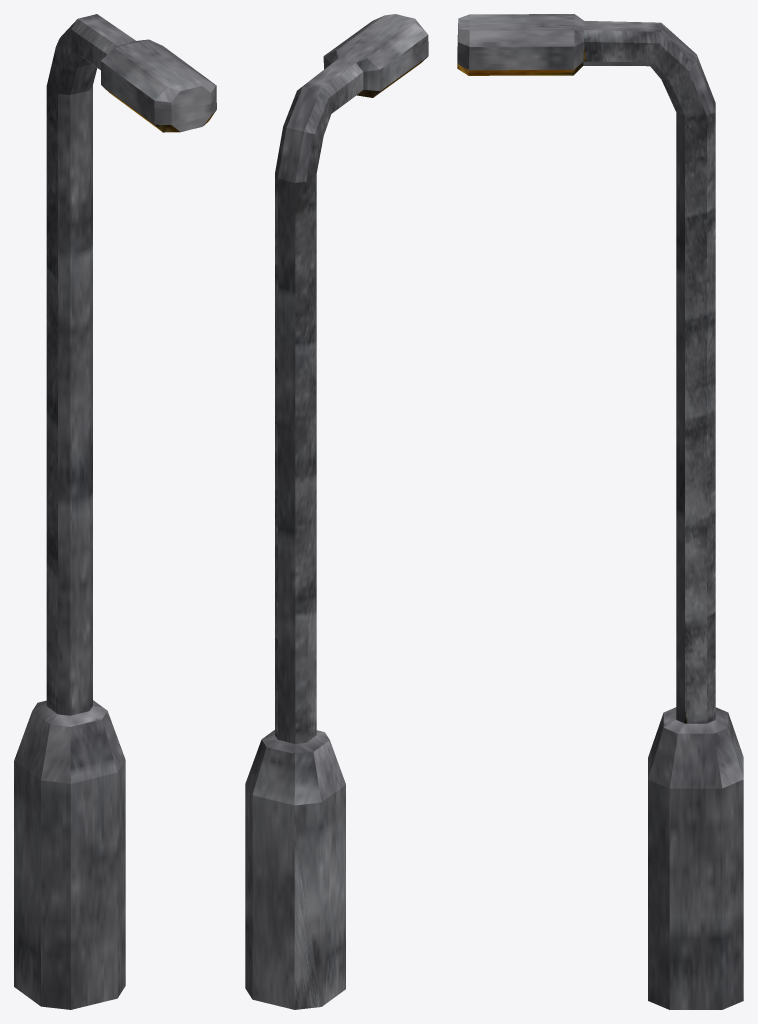
Rendered from lamp_384.glb.
3 renders of one model, left to right at view 1: azimuth 30°, elevation 25°; view 2: azimuth 150°, elevation 25°; view 3: azimuth 270°, elevation 25°, orthographic. The views are drawn at different scales.
Visible parts, largest first — view 1: lamp_384; view 2: lamp_384; view 3: lamp_384.
Boxes of the visible parts, bbox=[...] form: lamp_384: bbox=[14, 14, 216, 1009]; lamp_384: bbox=[245, 14, 428, 1009]; lamp_384: bbox=[457, 14, 743, 1009].
Bounding box in the file's own units: 0.421 × 4.7 × 1.26.
1 material, 1 textured.
